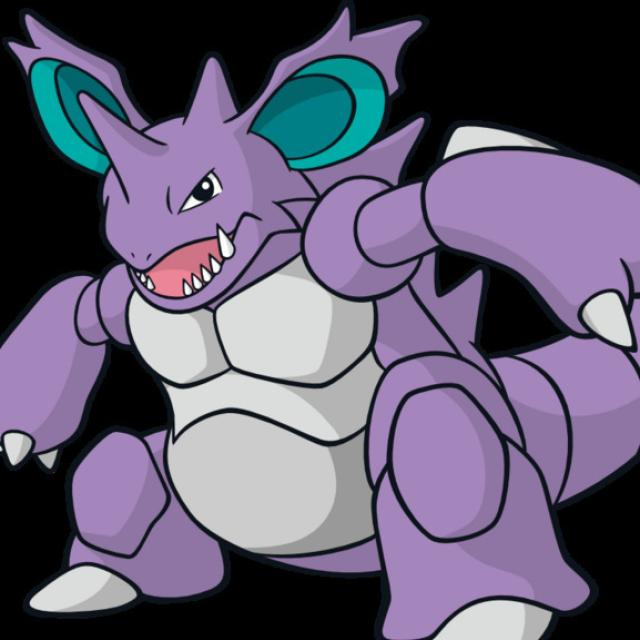Nidoking: (0, 3, 640, 640)
